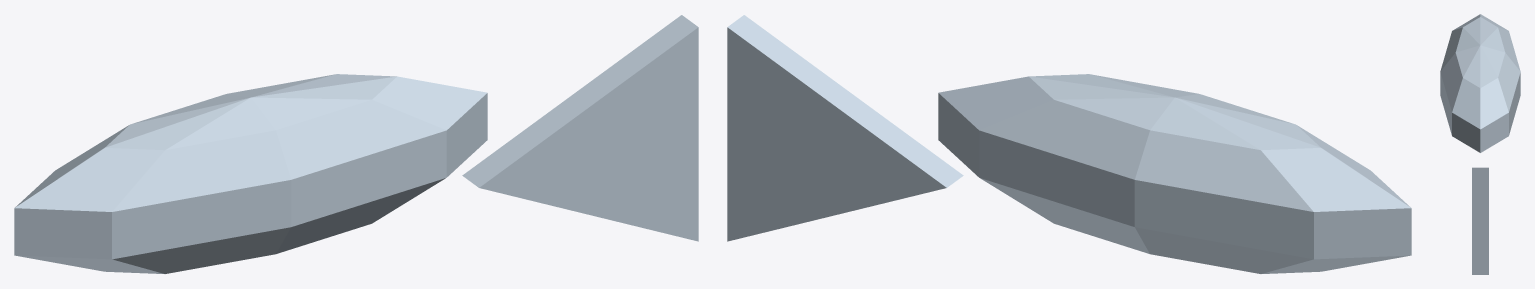
File: item_fish.glb
3 renders of one model, left to right at view 1: azimuth 30°, elevation 25°; view 2: azimuth 150°, elevation 25°; view 3: azimuth 270°, elevation 25°, orthographic. The views are drawn at different scales.
Parts seen in each view (by area): view 1: body, tail; view 2: body, tail; view 3: body, tail.
Part boxes in pixels (box(x1,y1,x2,y2)): body: box(14, 74, 487, 273); tail: box(462, 15, 698, 241); body: box(938, 74, 1411, 273); tail: box(727, 15, 963, 241); body: box(1440, 14, 1520, 152); tail: box(1472, 167, 1488, 274).
Bounding box in the file's own units: 0.4617 × 0.16 × 0.0951.
